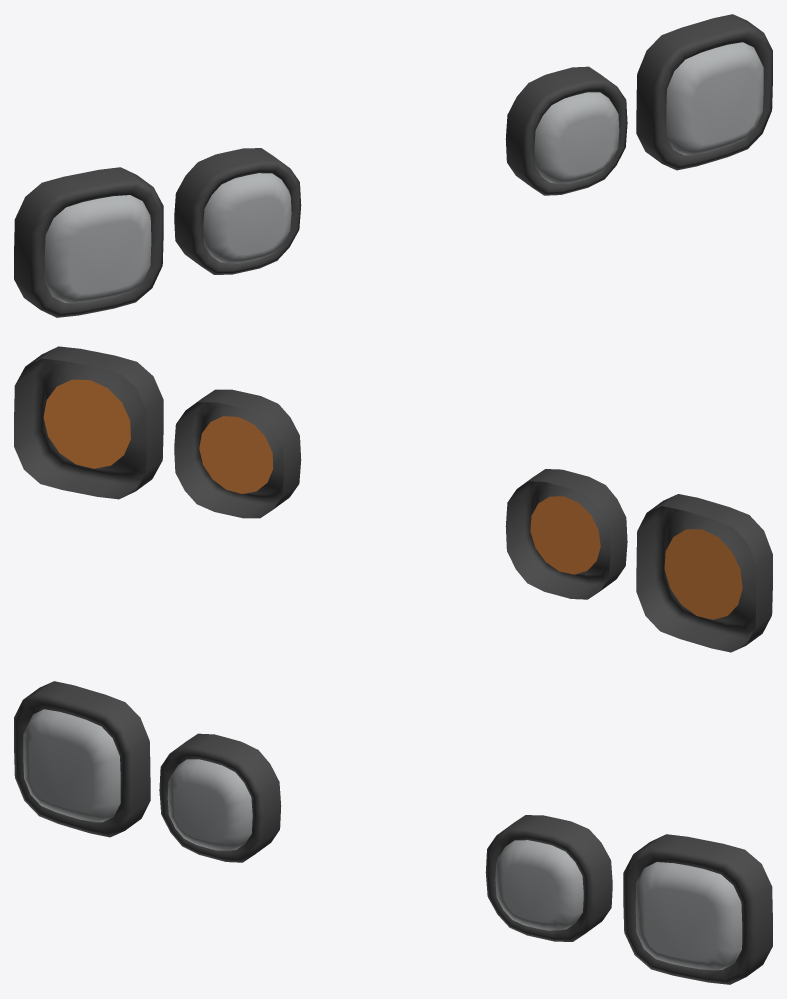
The model's file is Car_04_Headlight_Simple.fbx.
3 renders of one model, top to bottom at view 1: azimuth 30°, elevation 25°; view 2: azimuth 150°, elevation 25°; view 3: azimuth 330°, elevation 25°, orthographic.
Parts seen in each view (by area): view 1: Car_04_Headlight_Simple; view 2: Car_04_Headlight_Simple; view 3: Car_04_Headlight_Simple.
Boxes of the visible parts, bbox=[...] form: Car_04_Headlight_Simple: bbox=[14, 14, 772, 317]; Car_04_Headlight_Simple: bbox=[14, 346, 772, 652]; Car_04_Headlight_Simple: bbox=[14, 681, 772, 984].
Bounding box in the file's own units: 166 × 14.57 × 27.4.
